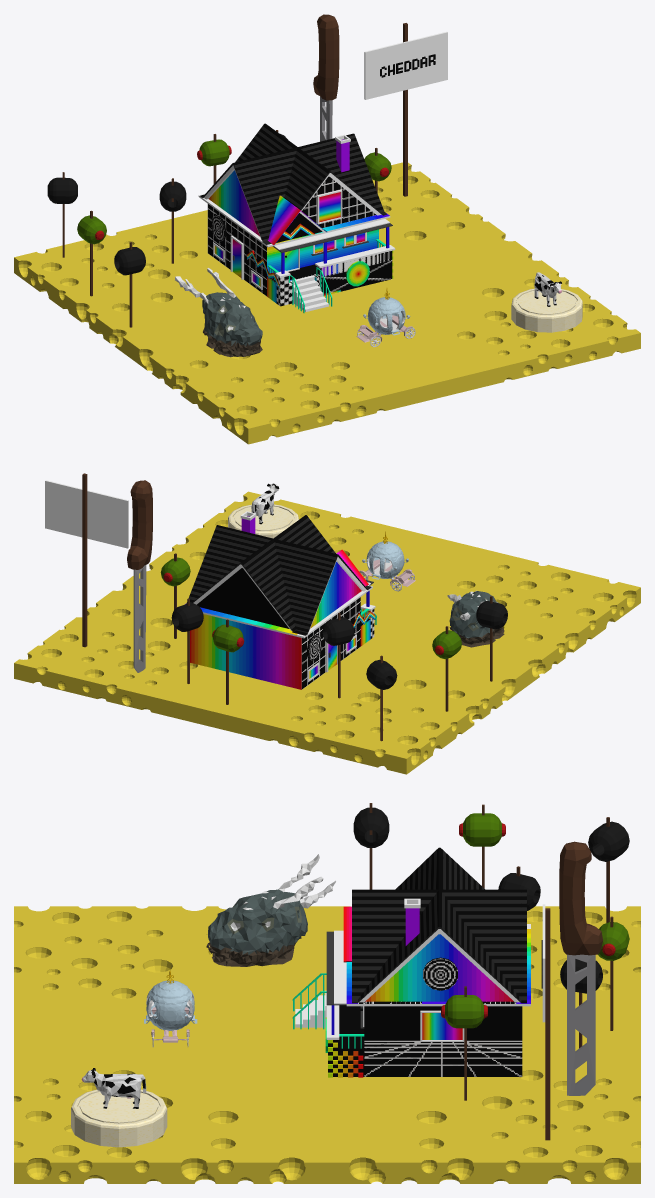
The picture shows the model from 3 angles, top to bottom: view 1: azimuth 30°, elevation 25°; view 2: azimuth 150°, elevation 25°; view 3: azimuth 270°, elevation 25°; orthographic projection. The views are drawn at different scales.
Parts seen in each view (by area): view 1: Cube.022, Cube.1320, Cube.023, OBJRANDOM_METEORITE, Cylinder.016, Cube.024, VEHICLES_FANTASY_CARRIAGE, Sphere.017, Sphere.016, Sphere.020, Sphere.018, Sphere.022 (+1 smaller); view 2: Cube.022, Cube.1320, Cube.023, Cube.024, OBJRANDOM_METEORITE, VEHICLES_FANTASY_CARRIAGE, Cylinder.016, Sphere.017, Sphere.020, Sphere.021, Sphere.016, Sphere.018 (+3 smaller); view 3: Cube.022, Cube.1320, OBJRANDOM_METEORITE, Cube.024, Cylinder.016, VEHICLES_FANTASY_CARRIAGE, Cube.023, Sphere.019, Sphere.016, Sphere.018, ANIMAL_VACA, Sphere.017 (+3 smaller).
Part boxes in pixels (<box>): Cube.022: <box>14,162,640,444</box>; Cube.1320: <box>198,123,395,313</box>; Cube.023: <box>364,23,447,196</box>; OBJRANDOM_METEORITE: <box>175,268,262,357</box>; Cylinder.016: <box>511,288,582,332</box>; Cube.024: <box>313,14,339,141</box>; VEHICLES_FANTASY_CARRIAGE: <box>356,288,415,347</box>; Sphere.017: <box>114,242,145,327</box>; Sphere.016: <box>47,172,77,257</box>; Sphere.020: <box>159,178,186,263</box>; Sphere.018: <box>77,210,106,296</box>; Sphere.022: <box>197,134,231,183</box>; Cube.022: <box>14,491,640,774</box>; Cube.1320: <box>185,511,376,689</box>; Cube.023: <box>45,473,128,647</box>; Cube.024: <box>127,480,152,672</box>; OBJRANDOM_METEORITE: <box>447,590,504,647</box>; VEHICLES_FANTASY_CARRIAGE: <box>359,531,415,591</box>; Cylinder.016: <box>228,504,298,538</box>; Sphere.017: <box>476,596,507,681</box>; Sphere.020: <box>322,612,354,698</box>; Sphere.021: <box>171,598,203,683</box>; Sphere.016: <box>366,655,397,741</box>; Sphere.018: <box>432,626,461,711</box>; Cube.022: <box>14,906,640,1183</box>; Cube.1320: <box>292,847,530,1077</box>; OBJRANDOM_METEORITE: <box>206,854,335,966</box>; Cube.024: <box>559,841,602,1095</box>; Cylinder.016: <box>71,1089,167,1147</box>; VEHICLES_FANTASY_CARRIAGE: <box>144,968,197,1047</box>; Cube.023: <box>541,904,550,1140</box>; Sphere.019: <box>441,986,487,1100</box>; Sphere.016: <box>588,817,629,922</box>; Sphere.018: <box>459,804,505,888</box>; ANIMAL_VACA: <box>81,1068,146,1108</box>; Sphere.017: <box>353,803,389,889</box>.
Bounding box in the file's own units: 3917 × 2010 × 4000.
Materials: 28 (5 with a texture image).
